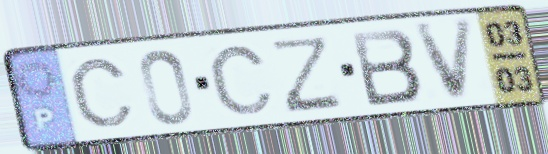0: (137, 46, 197, 128)
B: (347, 25, 426, 109)
C: (66, 56, 138, 130), (206, 43, 277, 118)
V: (410, 14, 478, 105)
Z: (271, 33, 344, 116)
